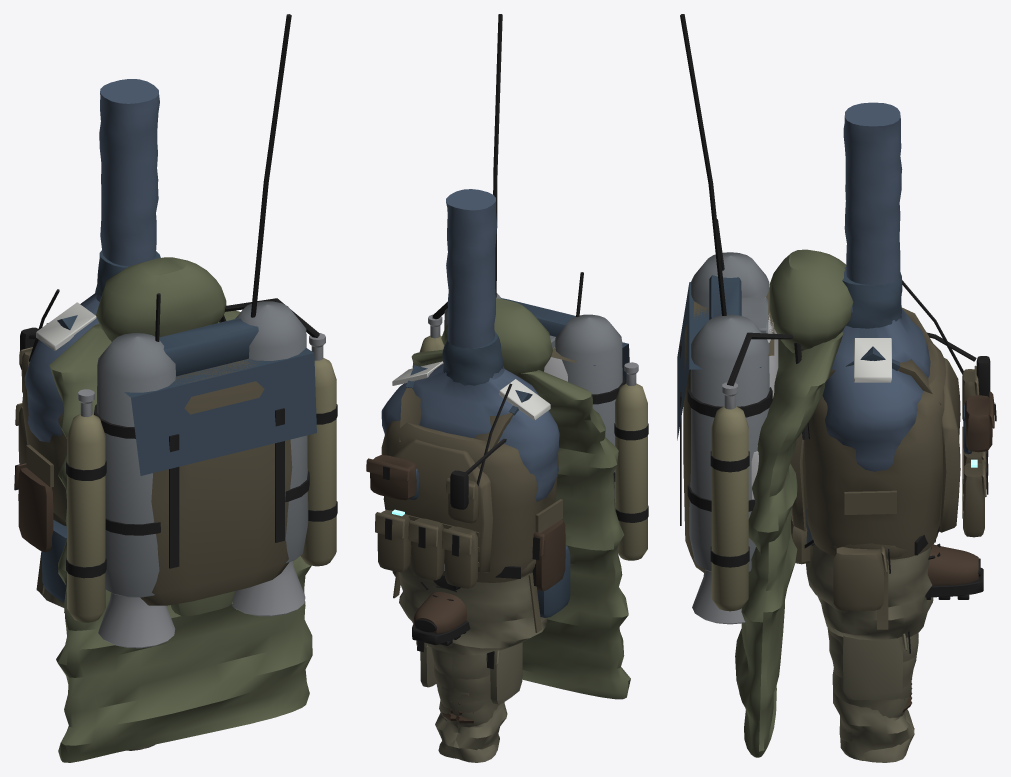
The model's file is trooper_parts.glb.
3 views of the same model, side by side, from view 1: azimuth 30°, elevation 25°; view 2: azimuth 150°, elevation 25°; view 3: azimuth 270°, elevation 25° (orthographic). The views are drawn at different scales.
Visible parts, largest first — view 1: Gear_engineer, Gear_sniper, Gear_maccabee, FP_Arm, Torso, Gear_leader, Pelvis; view 2: Torso, Gear_sniper, Pelvis, FP_Arm, Gear_leader, Gear_engineer, Gear_maccabee, Thigh_L, Thigh_R, Boot_R, Boot_L, Gear_medic; view 3: Torso, Gear_sniper, Gear_maccabee, Gear_engineer, Pelvis, FP_Arm, Thigh_R, Gear_leader, Thigh_L, Boot_L, Boot_R, Gear_medic.
Boxes of the visible parts, x1,y1,x2,y2 form: Gear_engineer: [66, 298, 337, 622]; Gear_sniper: [49, 257, 312, 762]; Gear_maccabee: [94, 301, 309, 648]; FP_Arm: [99, 79, 159, 266]; Torso: [15, 250, 160, 520]; Gear_leader: [14, 14, 291, 552]; Pelvis: [36, 512, 66, 607]; Torso: [375, 332, 562, 588]; Gear_sniper: [411, 298, 630, 699]; Pelvis: [392, 545, 570, 655]; FP_Arm: [446, 189, 497, 348]; Gear_leader: [366, 14, 583, 591]; Gear_engineer: [419, 298, 648, 560]; Gear_maccabee: [444, 293, 624, 498]; Thigh_L: [431, 642, 522, 762]; Thigh_R: [416, 641, 507, 758]; Boot_R: [412, 586, 469, 645]; Boot_L: [412, 584, 470, 645]; Gear_medic: [544, 347, 577, 381]; Torso: [790, 267, 988, 559]; Gear_sniper: [735, 249, 853, 757]; Gear_maccabee: [687, 252, 772, 624]; Gear_engineer: [677, 275, 809, 611]; Pelvis: [791, 514, 939, 640]; FP_Arm: [843, 102, 902, 285]; Thigh_R: [828, 630, 918, 762]; Gear_leader: [680, 14, 996, 452]; Thigh_L: [827, 627, 918, 760]; Boot_L: [926, 547, 983, 599]; Boot_R: [925, 543, 983, 599]; Gear_medic: [751, 287, 778, 499].
Bounding box in the file's own units: 0.634 × 1.77 × 0.6703.
